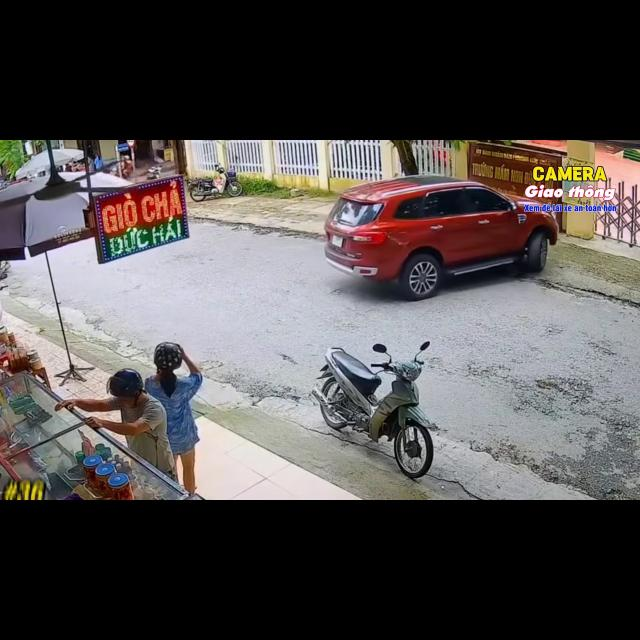car: (325, 176, 558, 300)
motorcycle: (312, 342, 433, 478), (188, 164, 242, 201), (147, 166, 161, 179), (0, 261, 10, 279)
